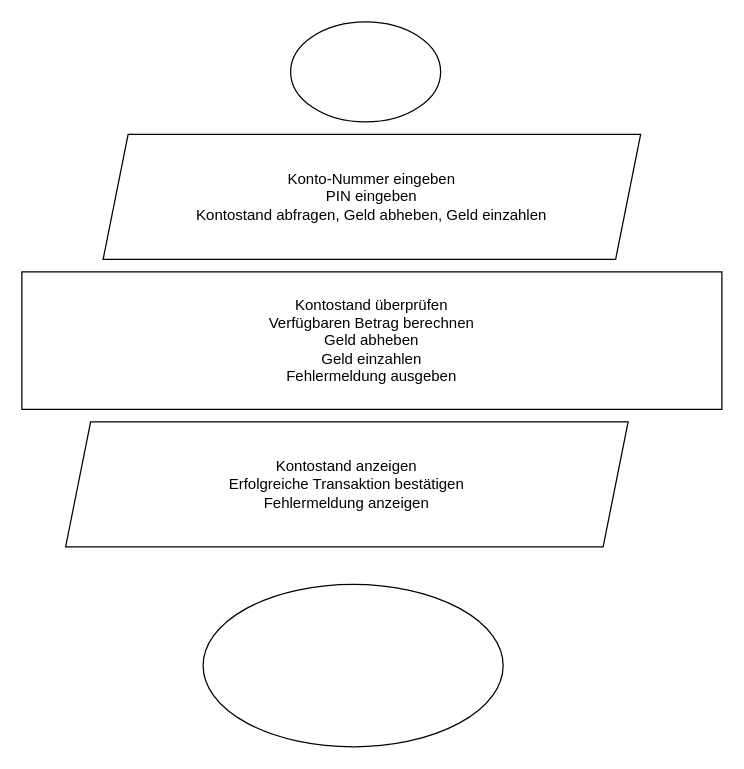
This 744x769 diagram has some shape labels left out. The shapes that lost their labels are listed below. From the top down, each one's box as (x1, y1, x2, y2) in pixels, then its label:
(289, 21, 441, 122): Beginnen
(202, 583, 503, 747): beendet
